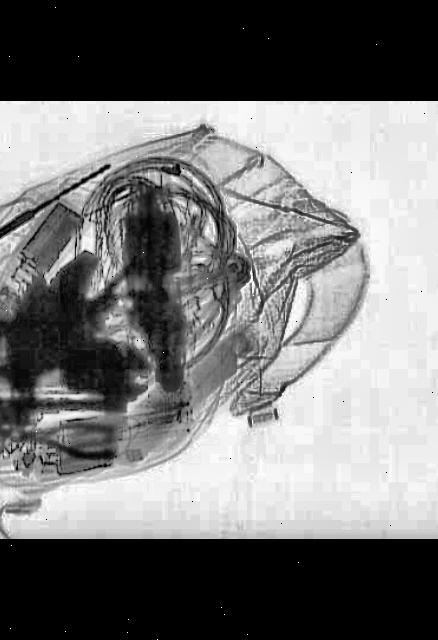Pliers: (7, 418, 119, 464)
